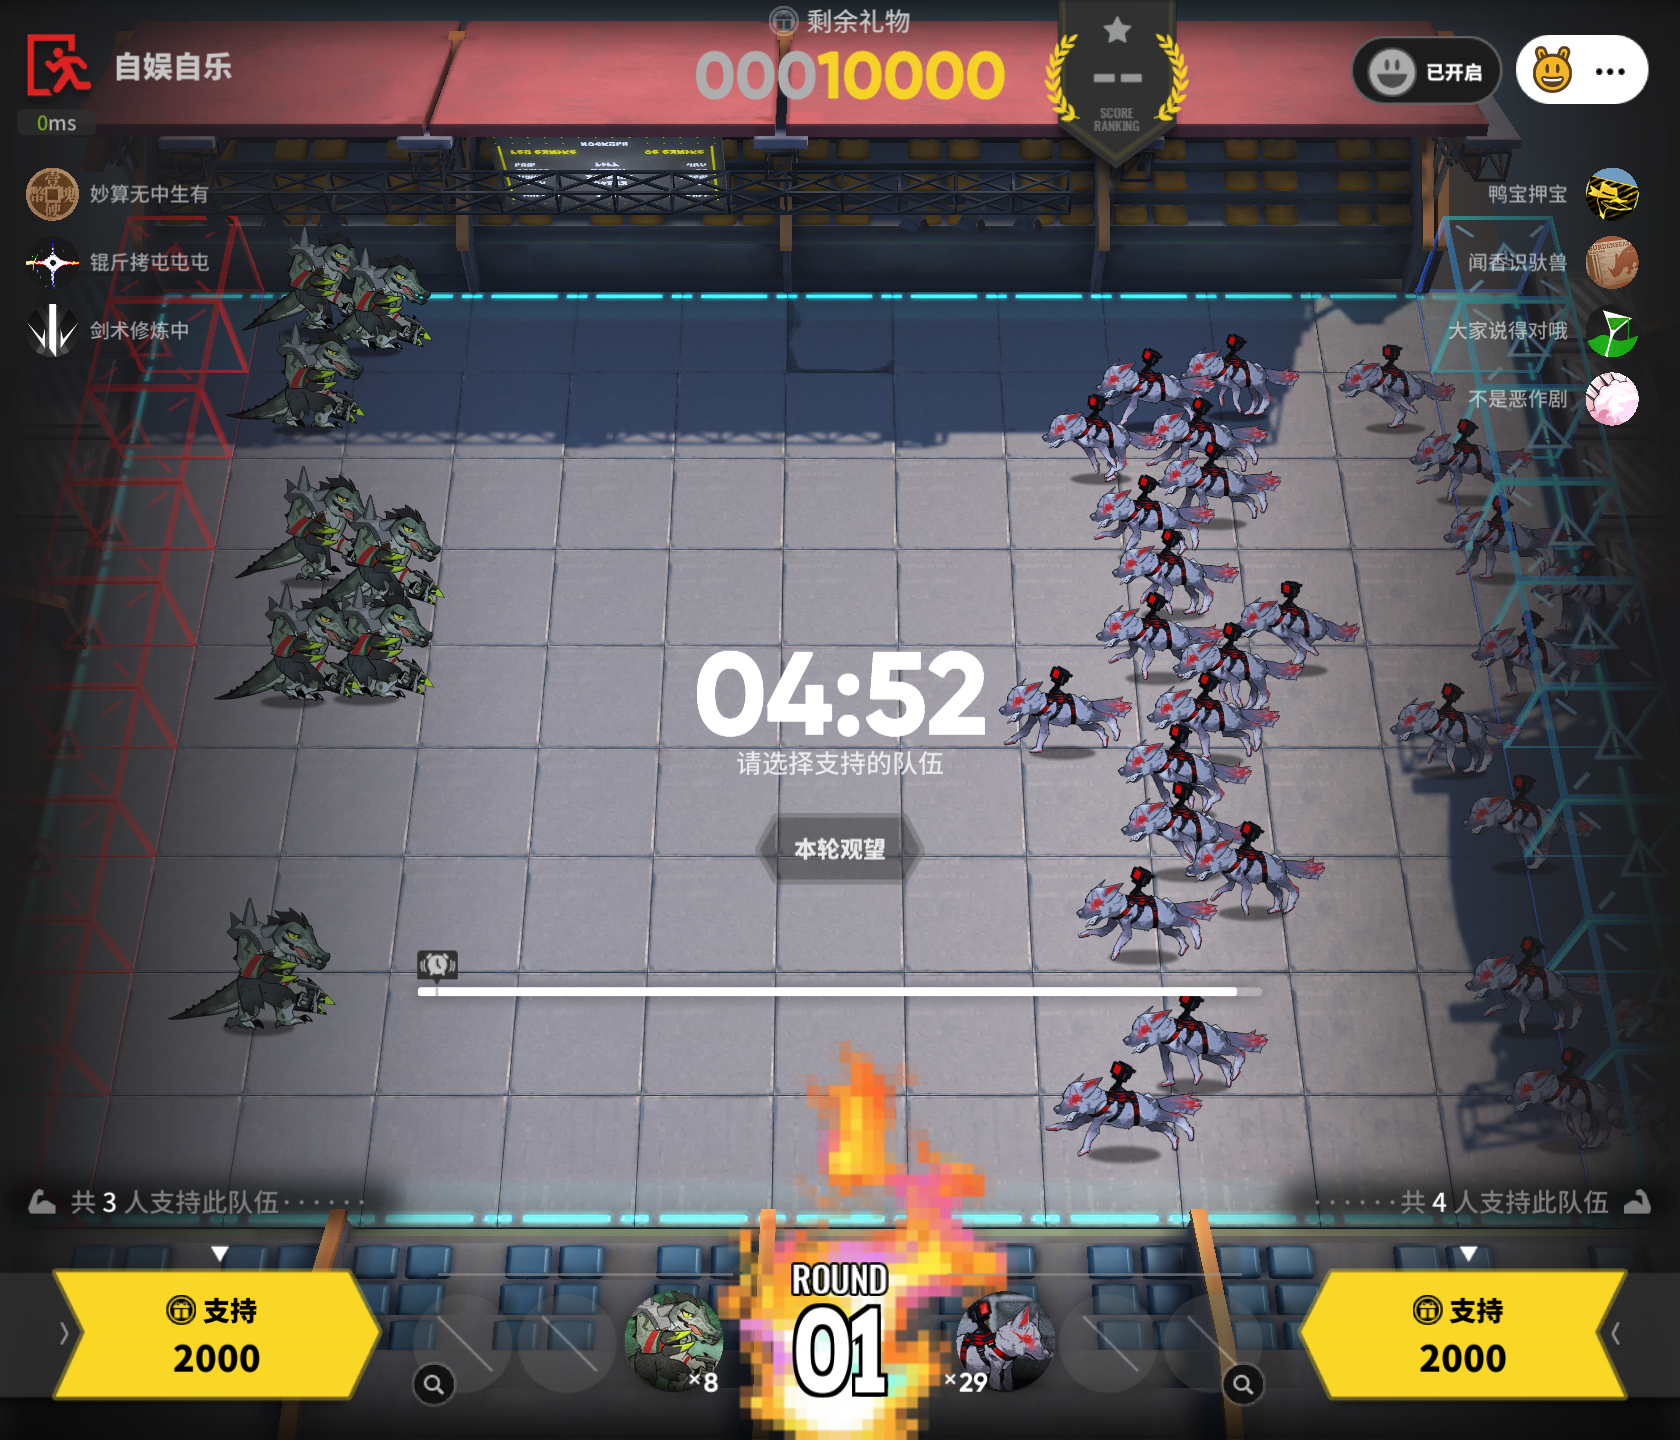狗Pro: (1044, 1060, 1201, 1157), (1121, 994, 1267, 1089), (1074, 866, 1217, 960), (1461, 773, 1600, 870), (1186, 820, 1324, 916), (1506, 1047, 1629, 1150), (1464, 936, 1591, 1034), (1441, 449, 1537, 579), (999, 664, 1131, 754), (1236, 580, 1360, 673), (1470, 609, 1596, 699), (1111, 527, 1239, 616), (1170, 621, 1291, 711), (1529, 543, 1639, 641), (1146, 677, 1279, 759), (1441, 489, 1561, 579), (1389, 681, 1504, 774), (1337, 343, 1454, 430), (953, 1291, 1053, 1391), (1117, 739, 1251, 813), (1119, 799, 1244, 877), (1181, 333, 1299, 416), (1096, 604, 1221, 680), (1141, 397, 1266, 471), (1089, 474, 1201, 553), (1159, 449, 1280, 520), (1094, 347, 1201, 426), (1041, 406, 1140, 481), (1409, 419, 1494, 501)
窃笑鳄鱼: (167, 897, 334, 1031), (234, 466, 391, 579), (240, 229, 376, 344), (226, 323, 364, 430), (316, 599, 449, 709), (311, 497, 451, 600), (230, 604, 364, 704), (311, 253, 439, 354), (619, 1281, 729, 1399), (1141, 397, 1266, 471)
